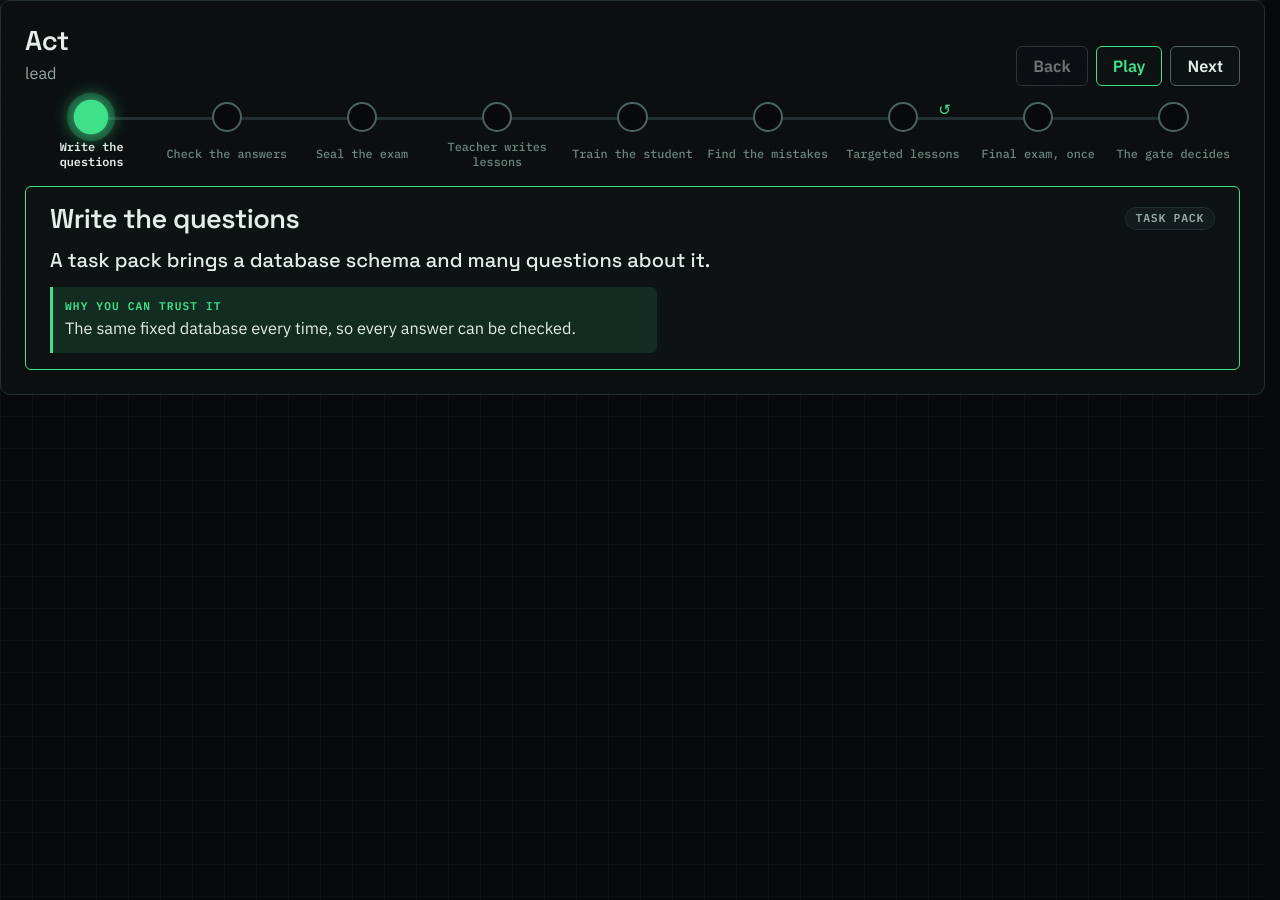
Test: How it works tour › the retraining stop says it loops back, and the link jumps there
This screenshot has width=1280, height=900.
Click the button "Targeted lessons". click: (903, 136)
box: [836,102,970,170]
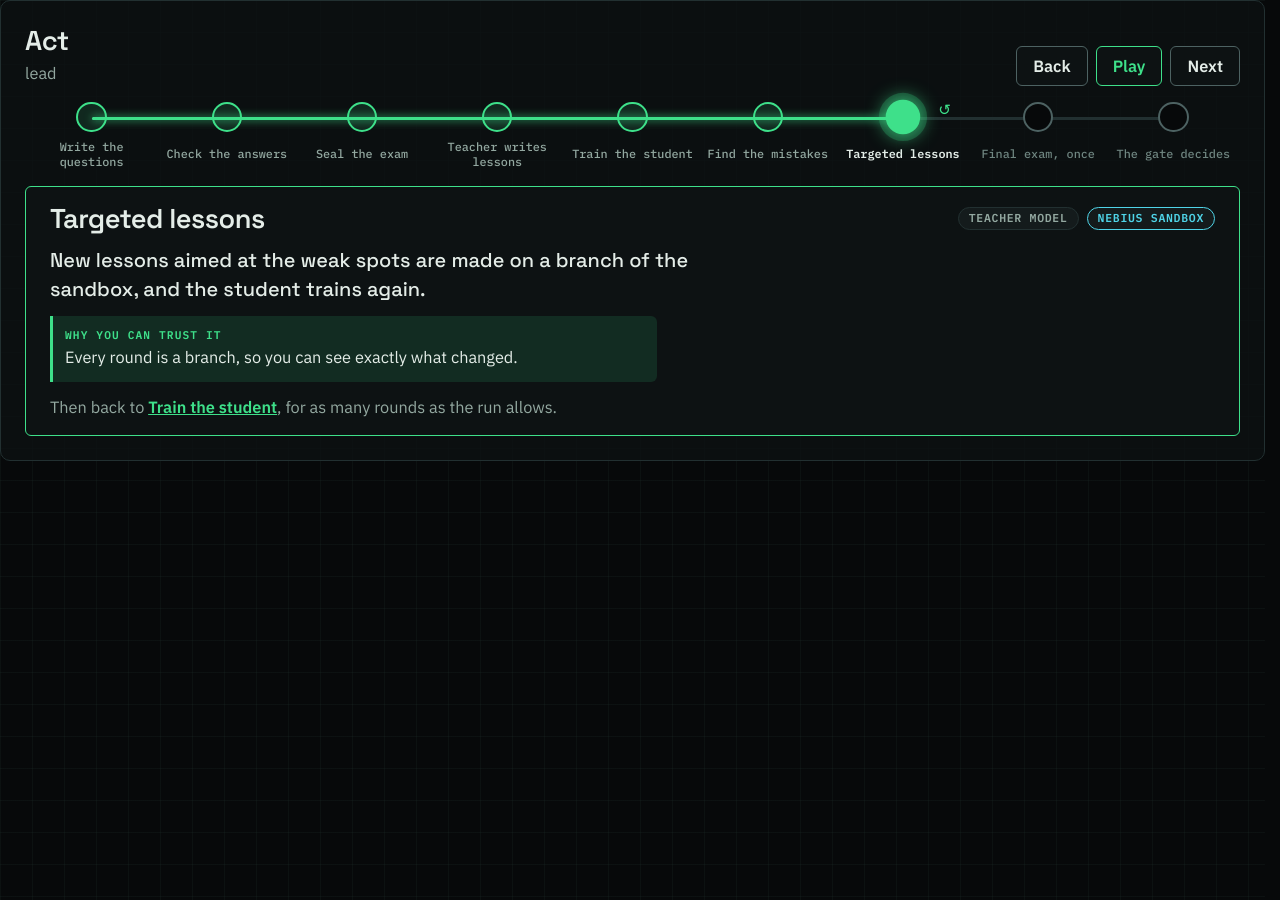
Click the button "Train the student" next to "Then back to". click: (213, 406)
box: [148,394,277,419]
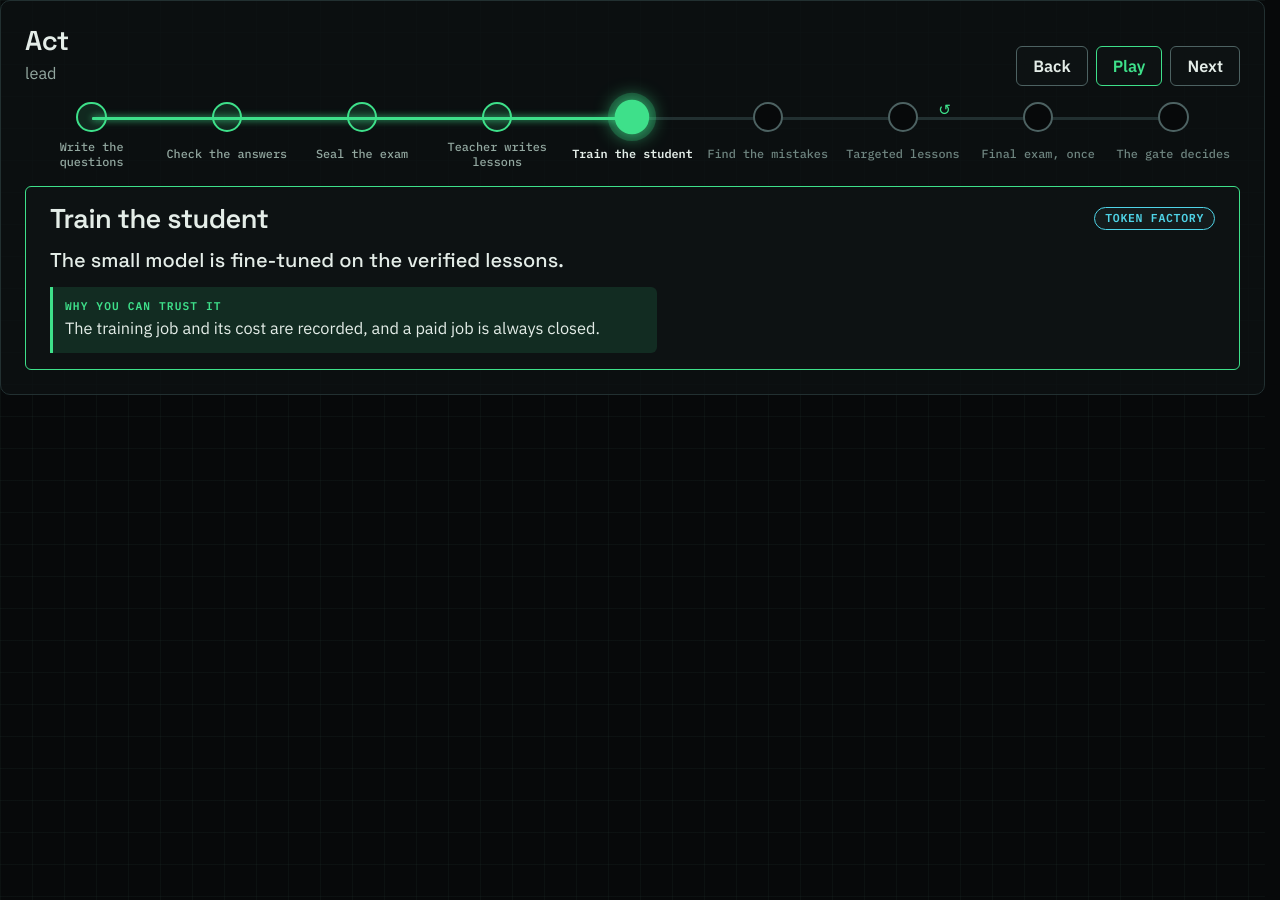
Check: the heading "Train the student" is shown, box [50,202,268,234]
